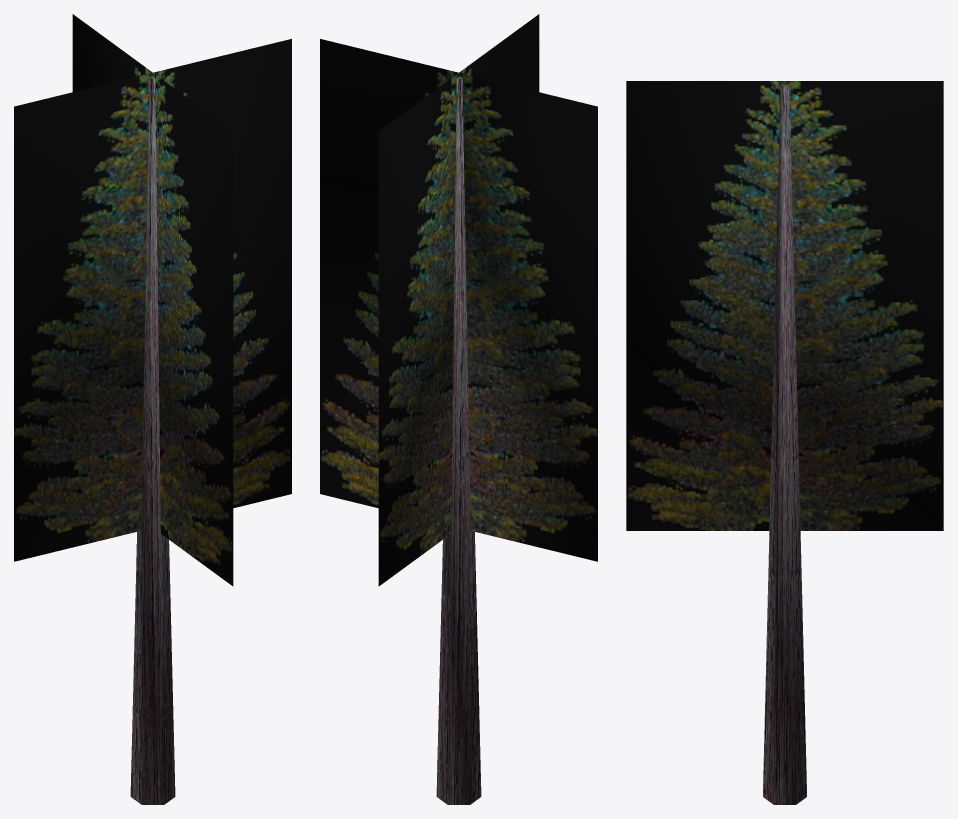
The model's file is Tree_Type2__1.fbx.
The picture shows the model from 3 angles, left to right: view 1: azimuth 30°, elevation 25°; view 2: azimuth 150°, elevation 25°; view 3: azimuth 270°, elevation 25°; orthographic projection.
Visible parts, largest first — view 1: Tree_Type2__1; view 2: Tree_Type2__1; view 3: Tree_Type2__1.
Part boxes in pixels (x1=…): Tree_Type2__1: x1=14, y1=14, x2=291, y2=804; Tree_Type2__1: x1=320, y1=14, x2=597, y2=804; Tree_Type2__1: x1=626, y1=81, x2=943, y2=804.
Bounding box in the file's own units: 14.81 × 36.91 × 14.81.
